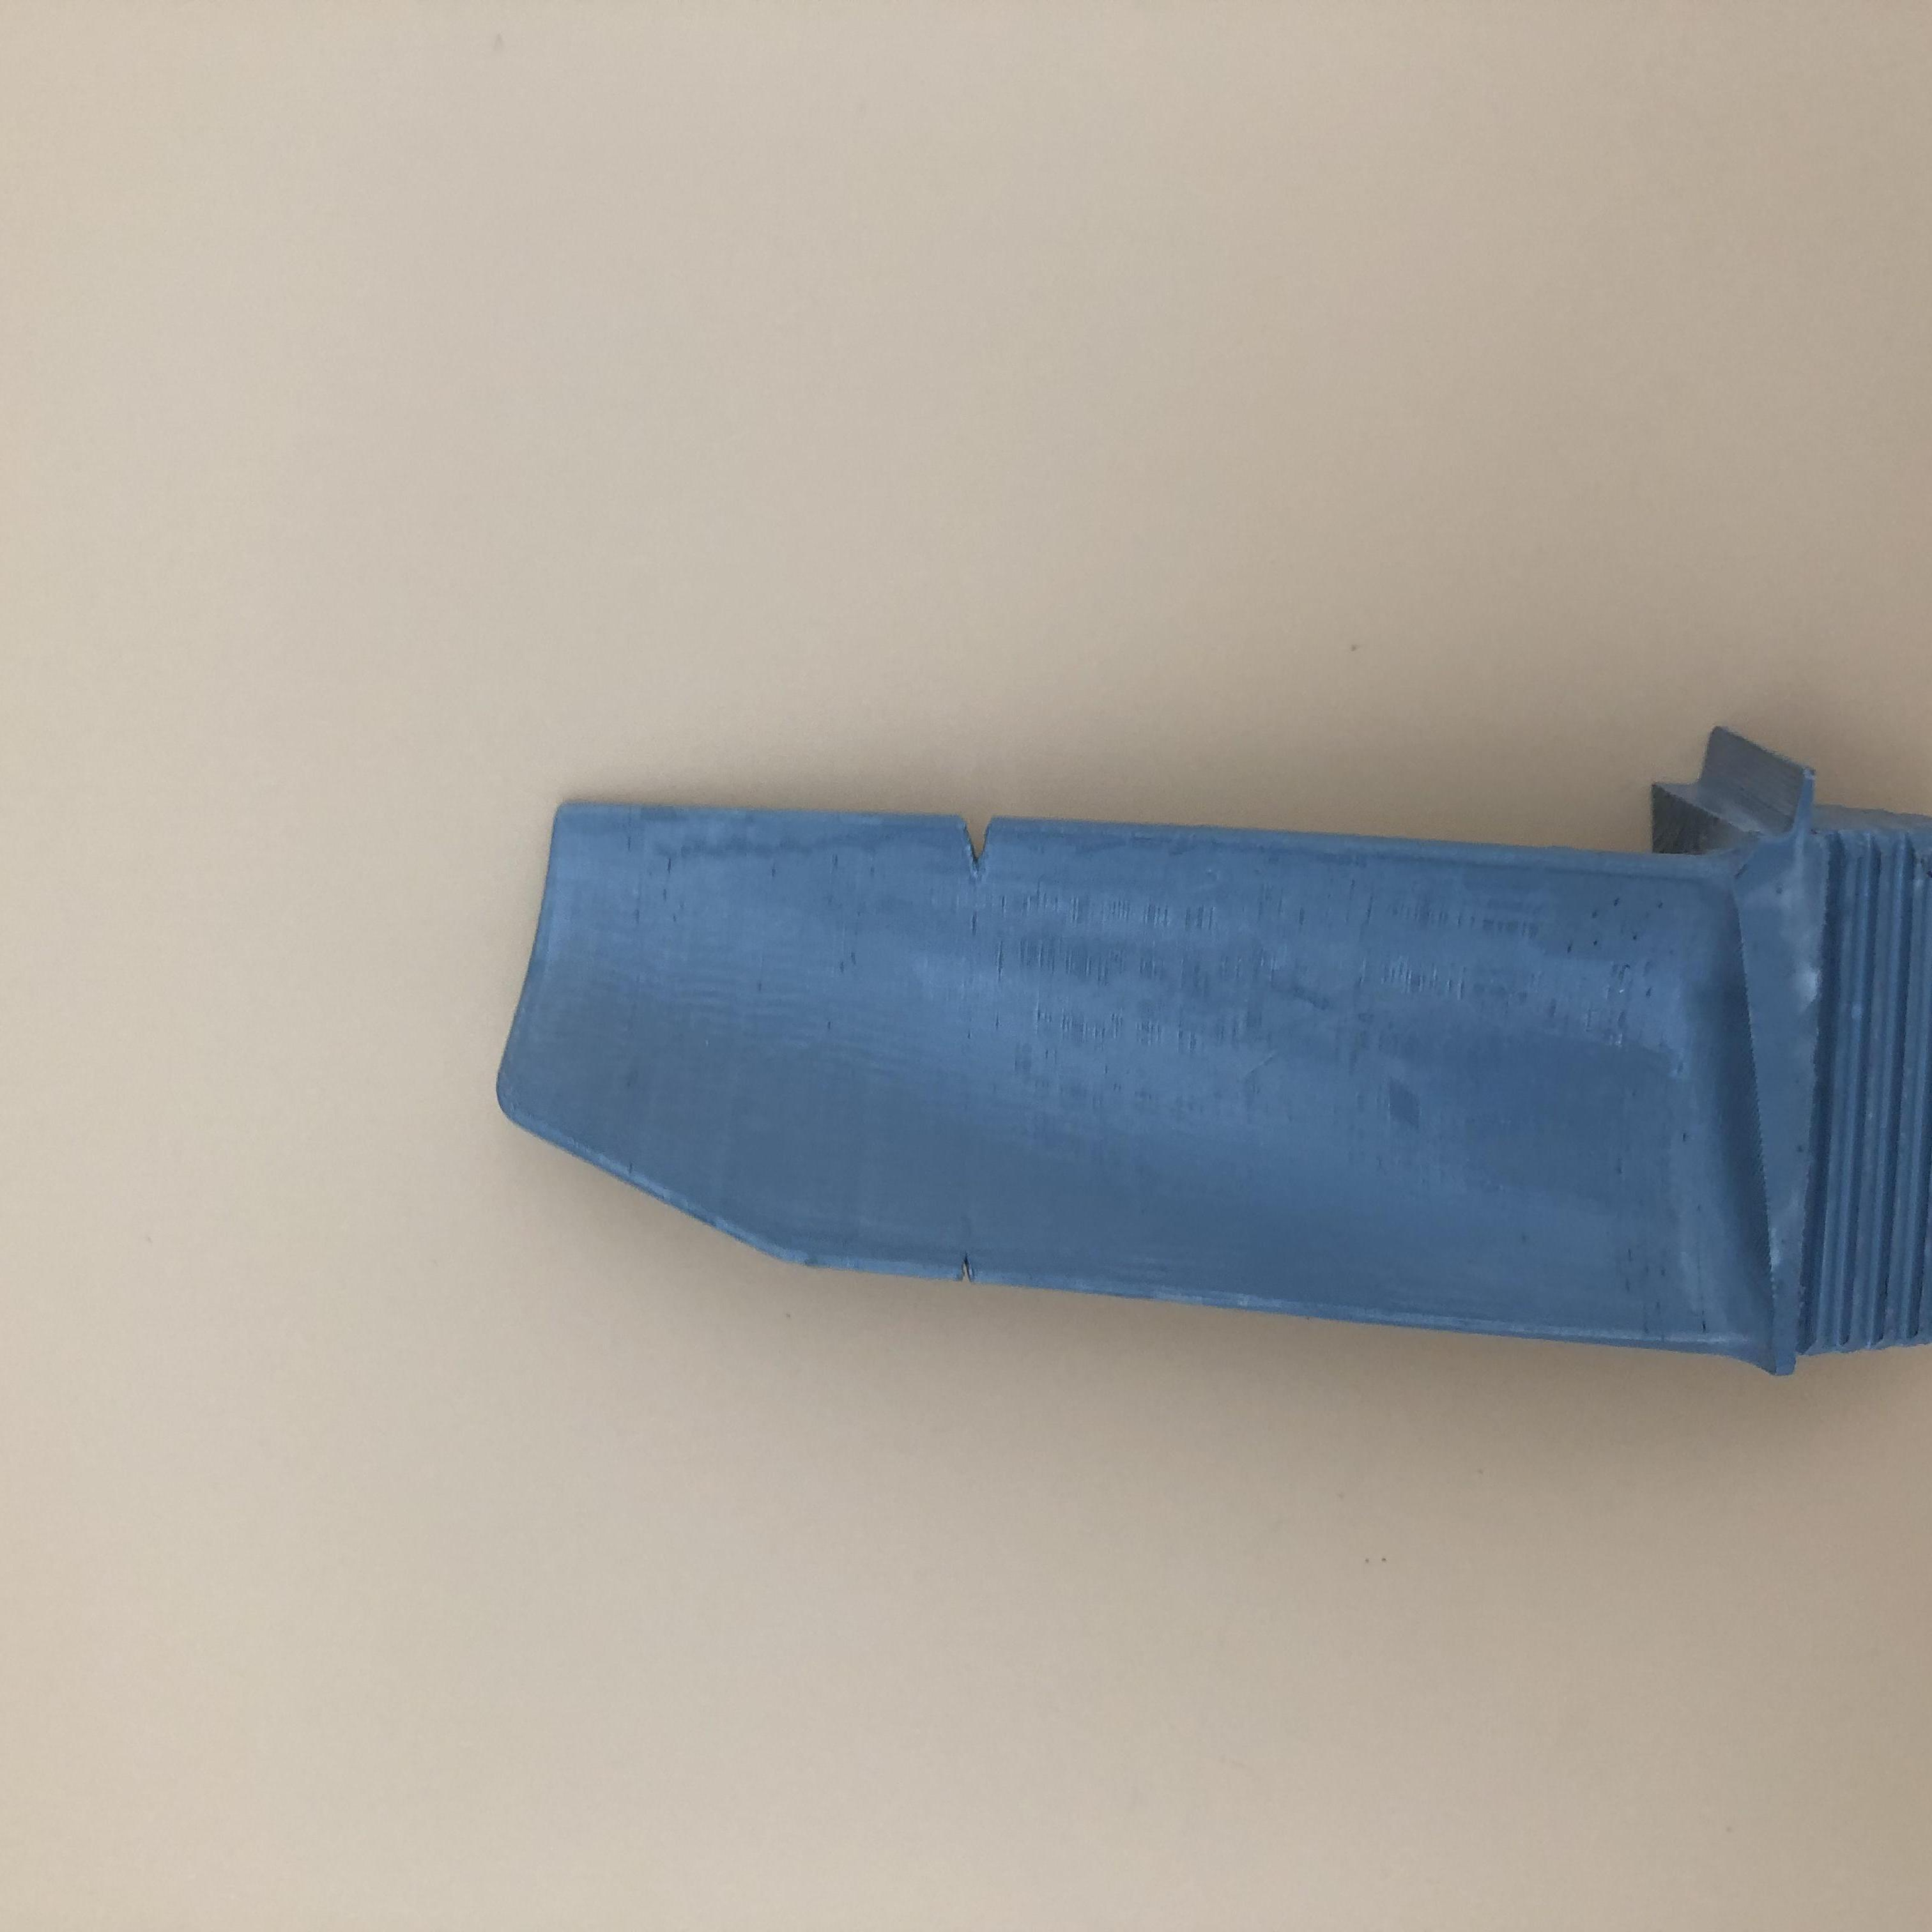groove: (945, 817, 1007, 874), (950, 1244, 991, 1290)
